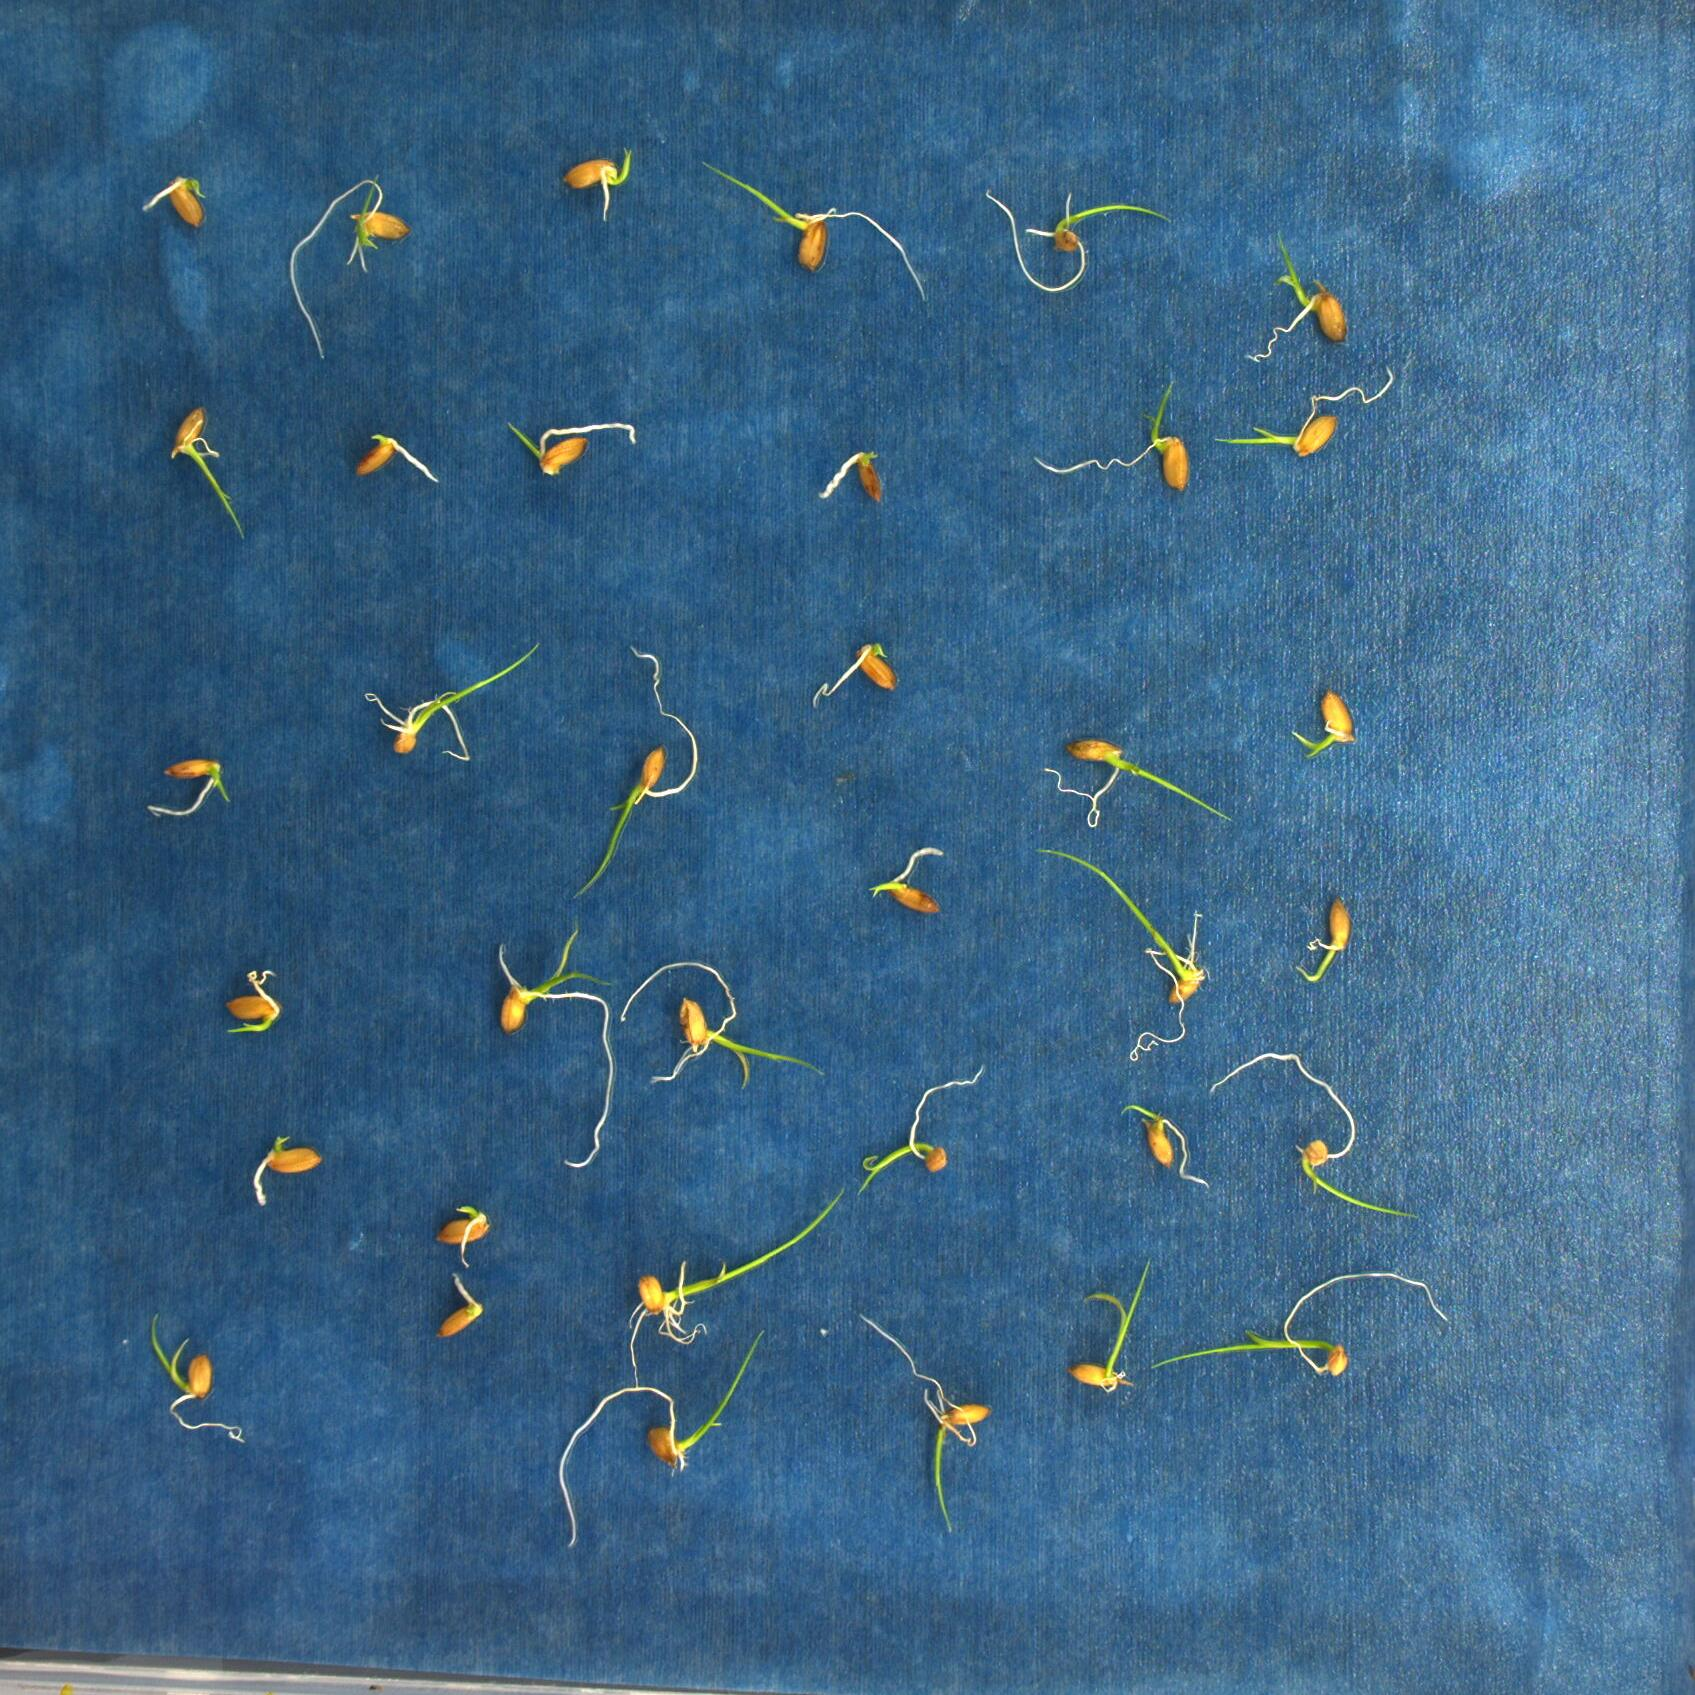not sprout: (810, 640, 897, 706), (253, 1133, 323, 1211), (872, 846, 945, 917), (354, 430, 441, 483), (141, 172, 208, 230), (818, 449, 885, 504), (435, 1205, 490, 1270), (438, 1273, 484, 1344)
sprout: (557, 1324, 767, 1548), (629, 1184, 846, 1386), (1038, 846, 1212, 1063), (1211, 1052, 1426, 1220), (570, 646, 698, 903), (702, 158, 927, 303), (1152, 1273, 1451, 1377), (858, 1313, 992, 1532), (498, 928, 618, 1170), (619, 959, 824, 1093), (290, 172, 411, 362), (362, 640, 543, 764), (984, 186, 1173, 292), (1034, 379, 1191, 490), (858, 1062, 990, 1194), (1211, 366, 1397, 459), (1040, 737, 1236, 826), (1246, 230, 1347, 365), (151, 1312, 245, 1444), (1066, 1257, 1153, 1392), (171, 407, 248, 543), (504, 418, 640, 473), (1121, 1104, 1211, 1187), (559, 146, 633, 224), (146, 754, 228, 820), (1291, 688, 1360, 761), (1298, 897, 1350, 986), (225, 967, 279, 1038)
